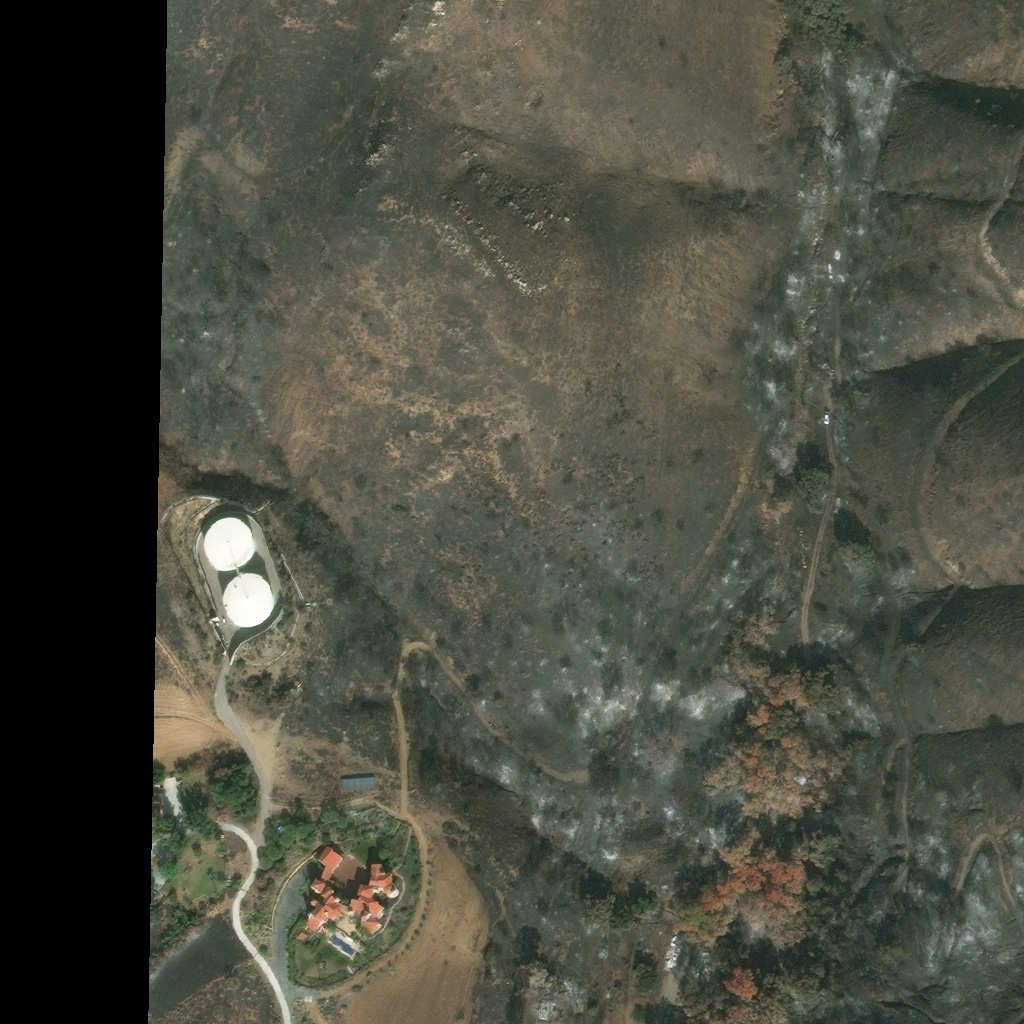0 no-damage: (219, 575, 271, 627), (204, 518, 252, 569), (355, 864, 398, 900), (301, 894, 340, 933), (347, 897, 383, 935), (315, 845, 342, 884), (308, 877, 334, 899), (340, 776, 374, 790), (337, 903, 353, 917)
3 destroyed: (661, 930, 681, 971), (690, 945, 708, 969), (534, 993, 552, 1015), (551, 995, 565, 1009), (675, 1001, 689, 1013), (534, 1012, 549, 1021)
